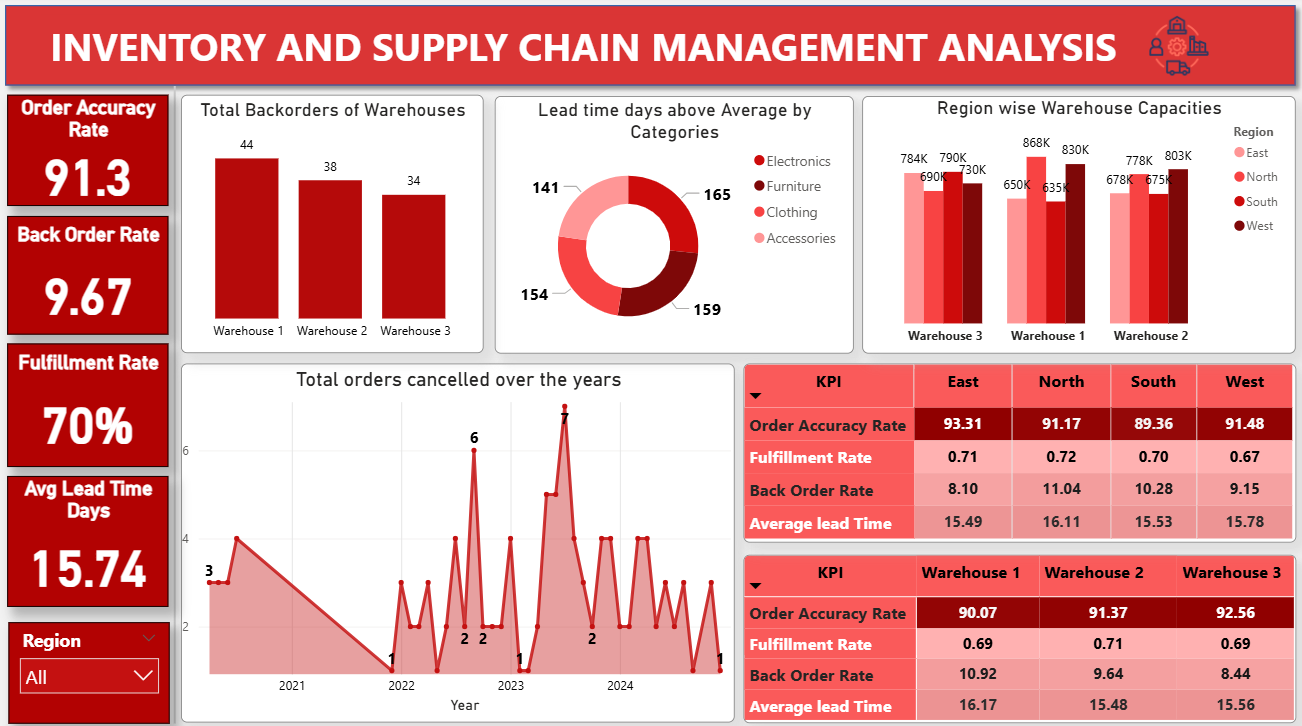

This screenshot's page, from the dashboard's own definition file:
{"tool":"powerbi","page":{"name":"Order Fulfillment & Supply Chain","canvas":[1280,720],"ordinal":1},"visuals":[{"type":"shape","box":[0,0,1280.3,96.6],"z":0},{"type":"textbox","box":[44,18.3,1061.4,59.9],"z":1000},{"type":"image","box":[1117.7,14.7,79.5,68.5],"z":2000},{"type":"shape","box":[168.8,88,12.2,623.6],"z":3000},{"type":"card","title":"Order Accuracy Rate","fields":{"Values":["Inventory_SupplyChain_Dataset.Order Accuracy Rate"]},"box":[11,96.6,157.7,108.8],"z":4000},{"type":"card","title":"Back Order Rate","fields":{"Values":["Inventory_SupplyChain_Dataset.Back Order Rate"]},"box":[11,215.2,157.7,116.2],"z":5000},{"type":"card","title":"Fulfillment Rate","fields":{"Values":["Inventory_SupplyChain_Dataset.Fulfillment Rate"]},"box":[11,339.9,157.7,121.1],"z":6000},{"type":"slicer","fields":{"Values":["Inventory_SupplyChain_Dataset.Region"]},"box":[12.2,612.6,157.7,99],"z":7000},{"type":"lineChart","title":"Total orders cancelled over the years","fields":{"Y":["CountNonNull(Inventory_SupplyChain_Dataset.Units Sold)"],"Series":["Inventory_SupplyChain_Dataset.Order Status"],"Category":["Inventory_SupplyChain_Dataset.Date.Variation.Date Hierarchy.Year","Inventory_SupplyChain_Dataset.Date.Variation.Date Hierarchy.Month"]},"box":[181,359.5,541.7,351],"z":8000},{"type":"donutChart","title":"Lead time days above Average by Categories","fields":{"Y":["Inventory_SupplyChain_Dataset.Above Avg Lead Time"],"Category":["Inventory_SupplyChain_Dataset.Category"]},"box":[487.9,97.8,351,251.9],"z":9000},{"type":"actionButton","box":[0,0,100,40],"z":10000},{"type":"card","title":"Avg Lead Time Days","fields":{"Values":["Avg(Inventory_SupplyChain_Dataset.Lead Time in Days)"]},"box":[11,469.6,157.7,128.4],"z":11000},{"type":"columnChart","title":"Total Backorders of Warehouses","fields":{"Category":["Inventory_SupplyChain_Dataset.Warehouse"],"Y":["CountNonNull(Inventory_SupplyChain_Dataset.Backorder)"],"Series":["Inventory_SupplyChain_Dataset.Backorder"]},"box":[181,96.6,295.9,253.1],"z":12000},{"type":"pivotTable","fields":{"Rows":["KPI Labels.KPI"],"Columns":["Inventory_SupplyChain_Dataset.Warehouse"],"Values":["KPI Labels.KPI Value"]},"box":[731.3,546.6,540.5,165.1],"z":13000},{"type":"pivotTable","fields":{"Rows":["KPI Labels.KPI"],"Values":["KPI Labels.KPI Value"],"Columns":["Inventory_SupplyChain_Dataset.Region"]},"box":[731.3,359.5,540.5,174.9],"z":14000},{"type":"clusteredColumnChart","title":"Region wise Warehouse Capacities","fields":{"Category":["Inventory_SupplyChain_Dataset.Warehouse"],"Y":["Sum(Inventory_SupplyChain_Dataset.Warehouse Capacity)"],"Series":["Inventory_SupplyChain_Dataset.Region"]},"box":[847.4,97.8,424.3,251.9],"z":15000}]}

Visuals, with their boxes in screenshot pixels (x1, y1, x2, y2), scaled from the page's 1280x720 canvas onto the 1302x726 screenshot:
shape: pyautogui.locateOnScreen(0, 0, 1301, 97)
textbox: pyautogui.locateOnScreen(45, 18, 1124, 79)
image: pyautogui.locateOnScreen(1137, 15, 1218, 84)
shape: pyautogui.locateOnScreen(172, 89, 184, 718)
"Order Accuracy Rate" card: pyautogui.locateOnScreen(11, 97, 172, 207)
"Back Order Rate" card: pyautogui.locateOnScreen(11, 217, 172, 334)
"Fulfillment Rate" card: pyautogui.locateOnScreen(11, 343, 172, 465)
slicer - Inventory_SupplyChain_Dataset.Region: pyautogui.locateOnScreen(12, 618, 173, 718)
"Total orders cancelled over the years" lineChart: pyautogui.locateOnScreen(184, 362, 735, 716)
"Lead time days above Average by Categories" donutChart: pyautogui.locateOnScreen(496, 99, 853, 353)
actionButton: pyautogui.locateOnScreen(0, 0, 102, 40)
"Avg Lead Time Days" card: pyautogui.locateOnScreen(11, 474, 172, 603)
"Total Backorders of Warehouses" columnChart: pyautogui.locateOnScreen(184, 97, 485, 353)
pivotTable - KPI Labels.KPI x Inventory_SupplyChain_Dataset.Warehouse: pyautogui.locateOnScreen(744, 551, 1294, 718)
pivotTable - KPI Labels.KPI x KPI Labels.KPI Value: pyautogui.locateOnScreen(744, 362, 1294, 539)
"Region wise Warehouse Capacities" clusteredColumnChart: pyautogui.locateOnScreen(862, 99, 1294, 353)
